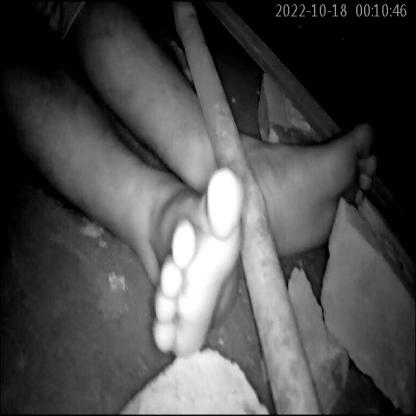leg: (0, 57, 248, 367), (119, 22, 390, 244)
